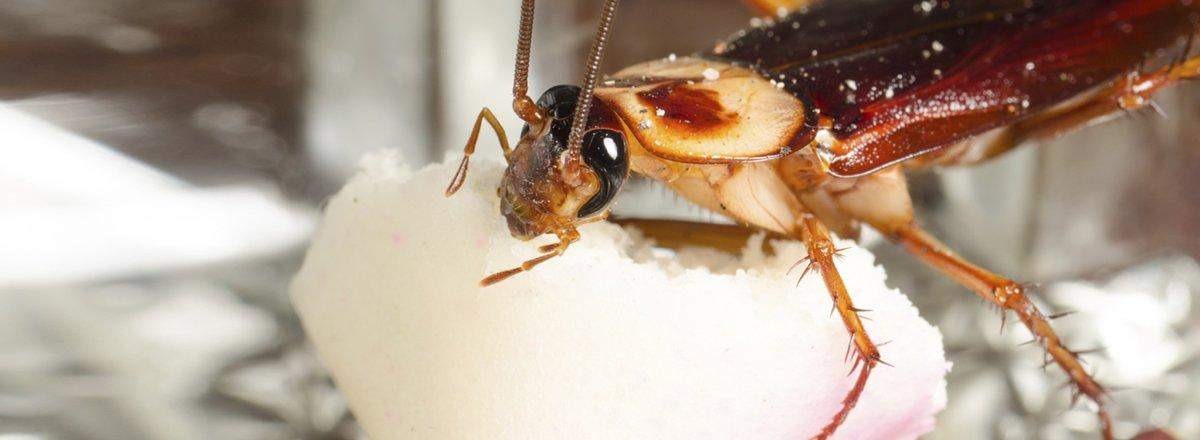cockroach: (476, 5, 1198, 246)
